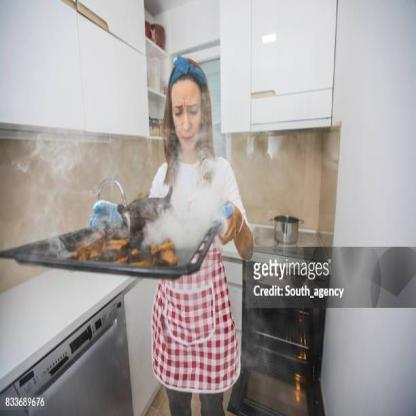smoke: (19, 99, 230, 263)
